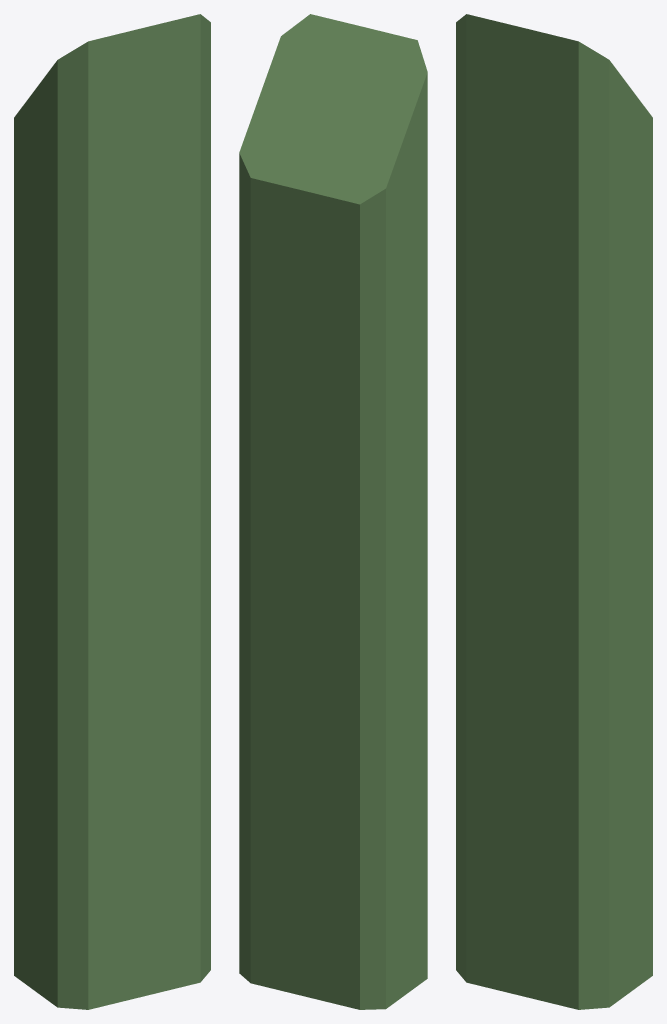
The model's file is Arena_Torres_v02.fbx.
3 views of the same model, side by side, from view 1: azimuth 30°, elevation 25°; view 2: azimuth 150°, elevation 25°; view 3: azimuth 330°, elevation 25° (orthographic). The views are drawn at different scales.
Visible parts, largest first — view 1: Arena_Torres_v02; view 2: Arena_Torres_v02; view 3: Arena_Torres_v02.
Boxes of the visible parts, left/top/right/bottom form: Arena_Torres_v02: left=14, top=14, right=210, bottom=1009; Arena_Torres_v02: left=239, top=14, right=427, bottom=1009; Arena_Torres_v02: left=456, top=14, right=652, bottom=1009.
Bounding box in the file's own units: 17.73 × 107 × 12.29.
